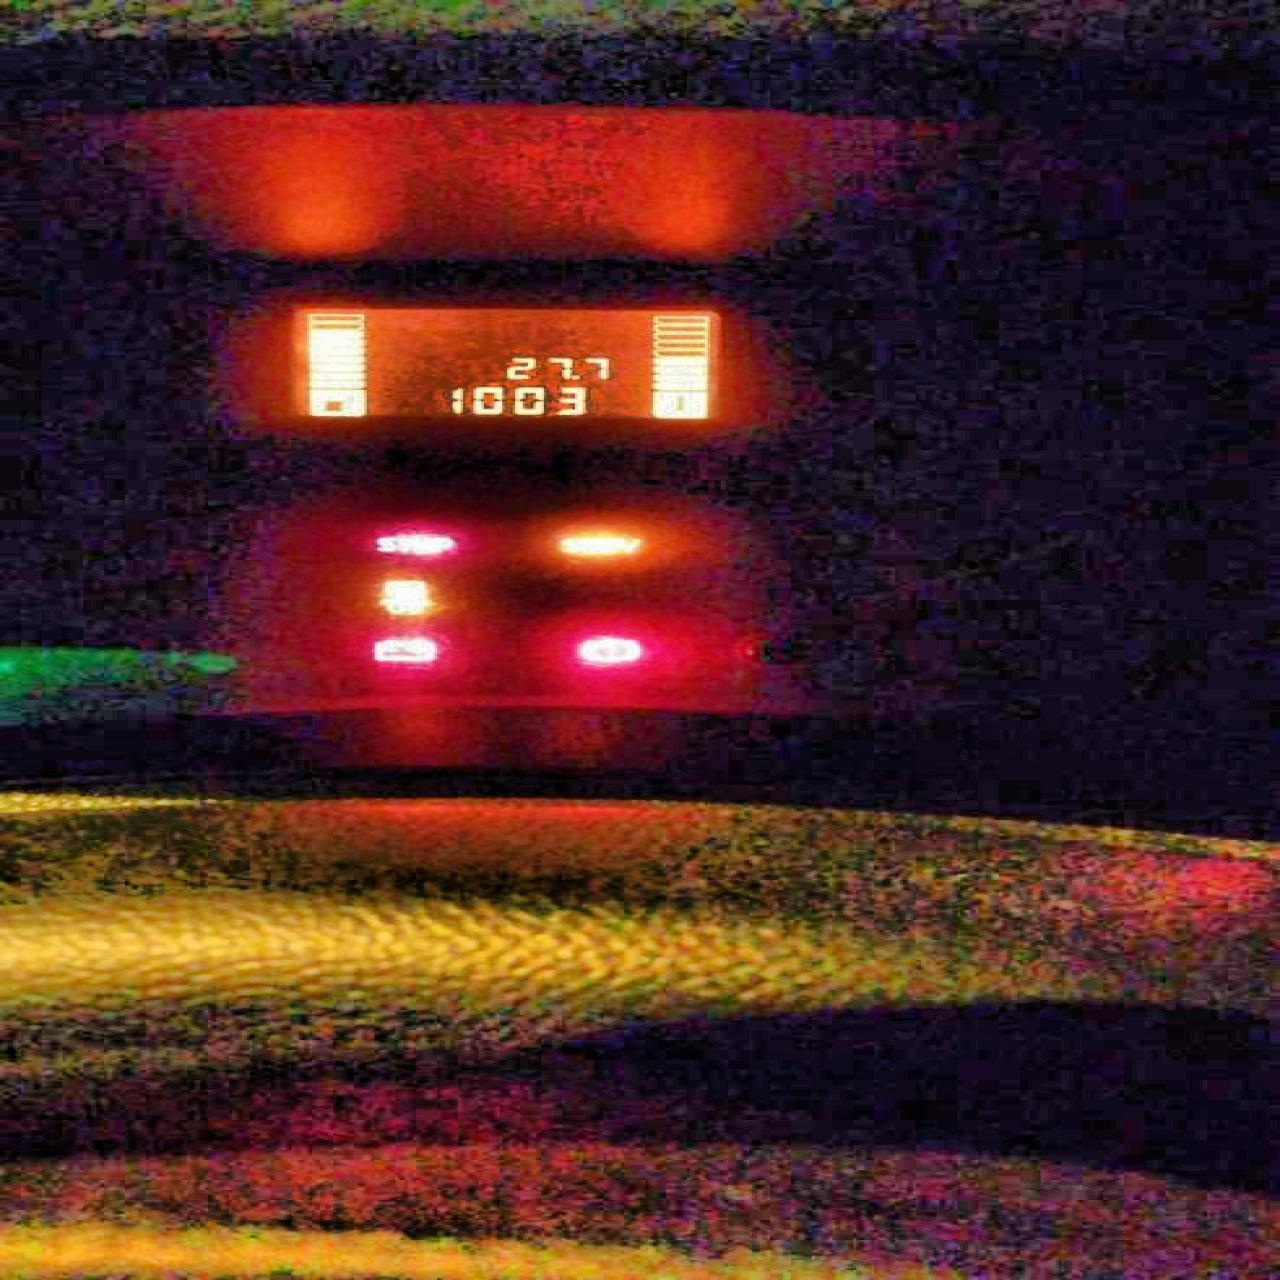-: (570, 374, 580, 379)
0: (468, 384, 502, 414), (510, 387, 544, 414)
1: (448, 387, 463, 414)
2: (502, 356, 533, 379)
3: (554, 384, 586, 414)
7: (580, 356, 608, 380), (544, 356, 572, 379)
odometer: (284, 305, 723, 421)
